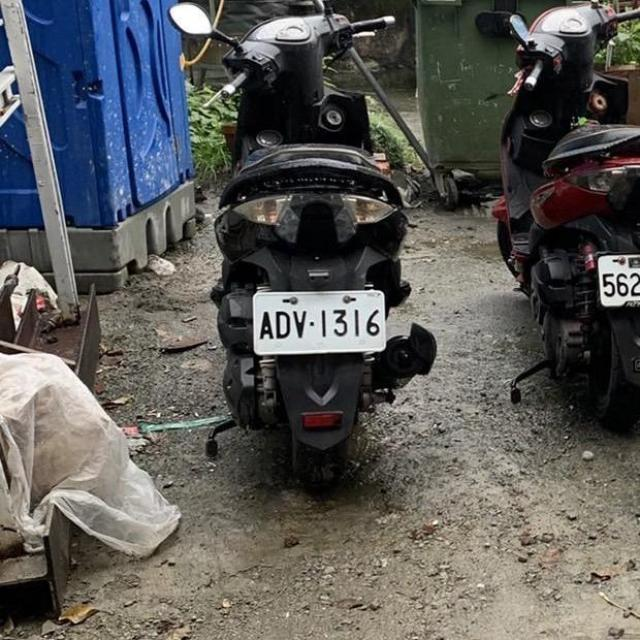W: (250, 286, 387, 357), (593, 246, 640, 312)
